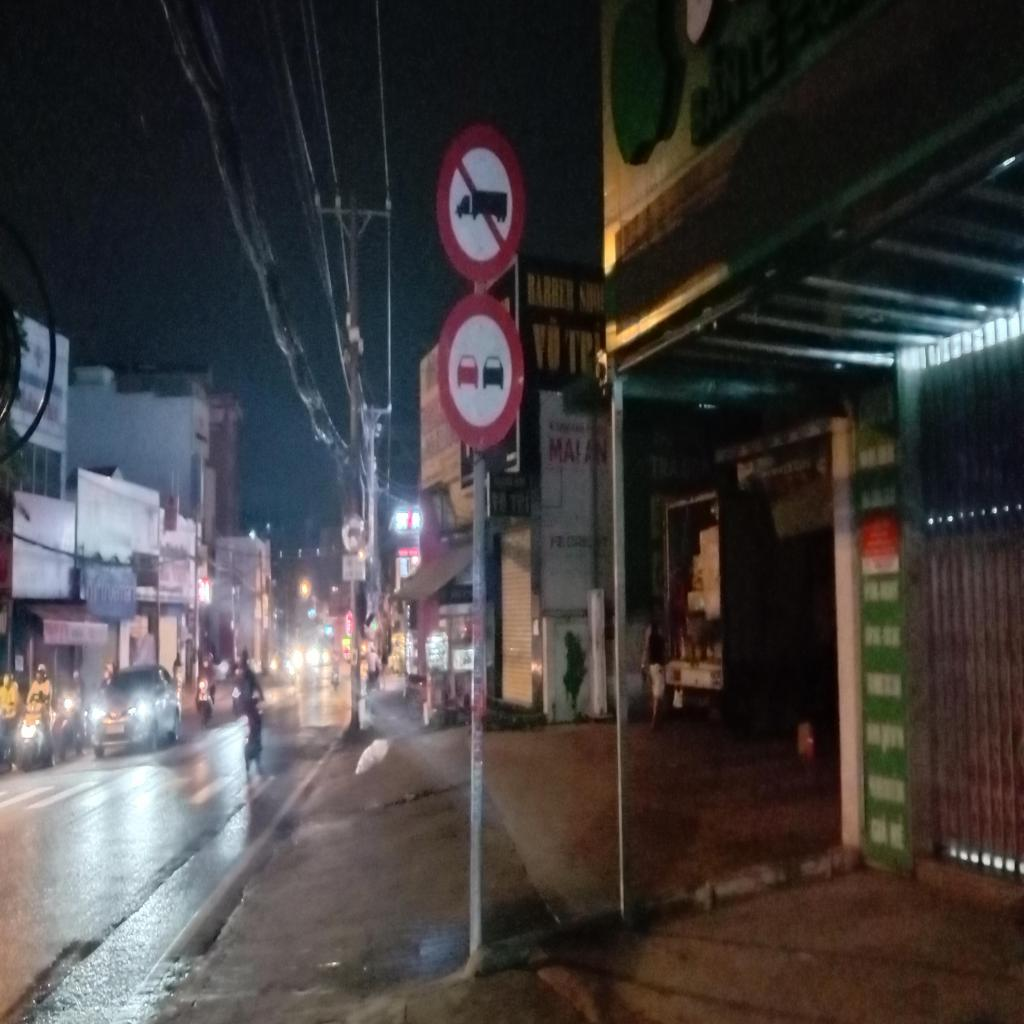cam_o_to_tai: (341, 514, 365, 551)
cam_o_to_tai_trong_luong_qua_10t: (433, 124, 529, 288)
cam_vuot: (432, 292, 528, 453)
khac: (342, 557, 365, 578)
